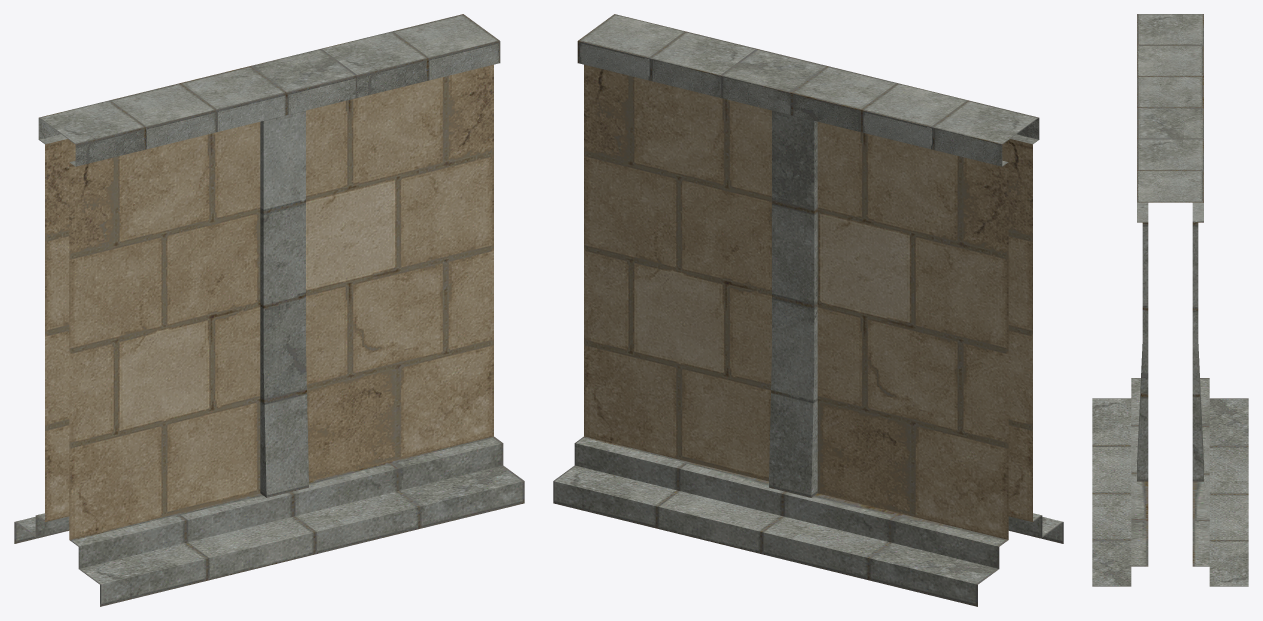
The model's file is wall_2U.fbx.
3 renders of one model, left to right at view 1: azimuth 30°, elevation 25°; view 2: azimuth 150°, elevation 25°; view 3: azimuth 270°, elevation 25°, orthographic. The views are drawn at different scales.
Parts seen in each view (by area): view 1: wall_2U; view 2: wall_2U; view 3: wall_2U.
Part boxes in pixels (bbox=[...]): wall_2U: bbox=[14, 14, 524, 606]; wall_2U: bbox=[553, 14, 1063, 606]; wall_2U: bbox=[1092, 14, 1248, 586].
Size of the model in its own units: 200 by 200 by 70.
